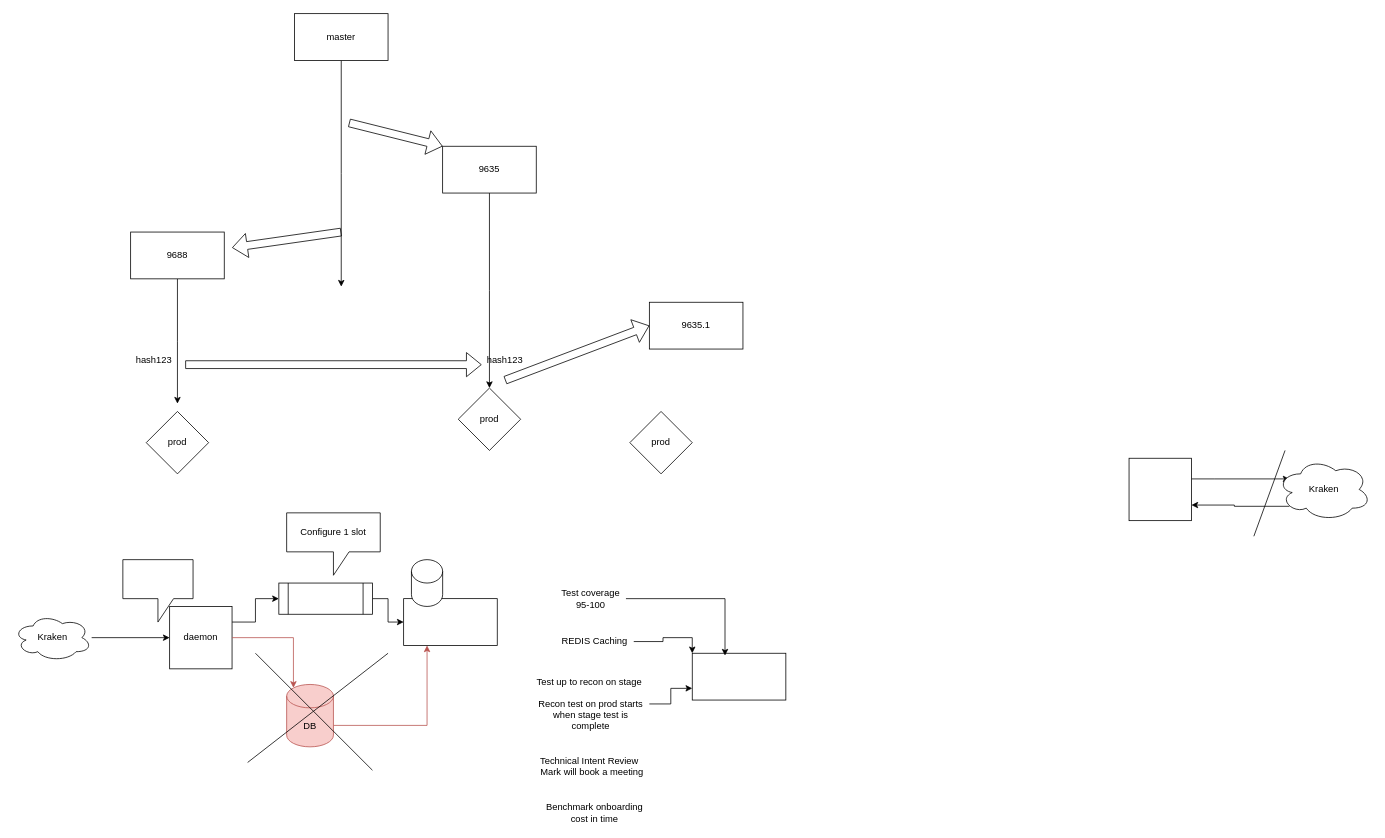
Some shapes in this 1385 by 838 pixel diagram are drawn without their labels. The shapes that lost their labels are listed below. From the top down, each one's centre as x and y in pixels, then its label:
At [1159,489]: "DMN".
At [157,590]: "Rate of polling?".
At [325,598]: "Event".
At [427,582]: "cache".
At [450,621]: "webapi".
At [738,676]: "discuss with ian".
